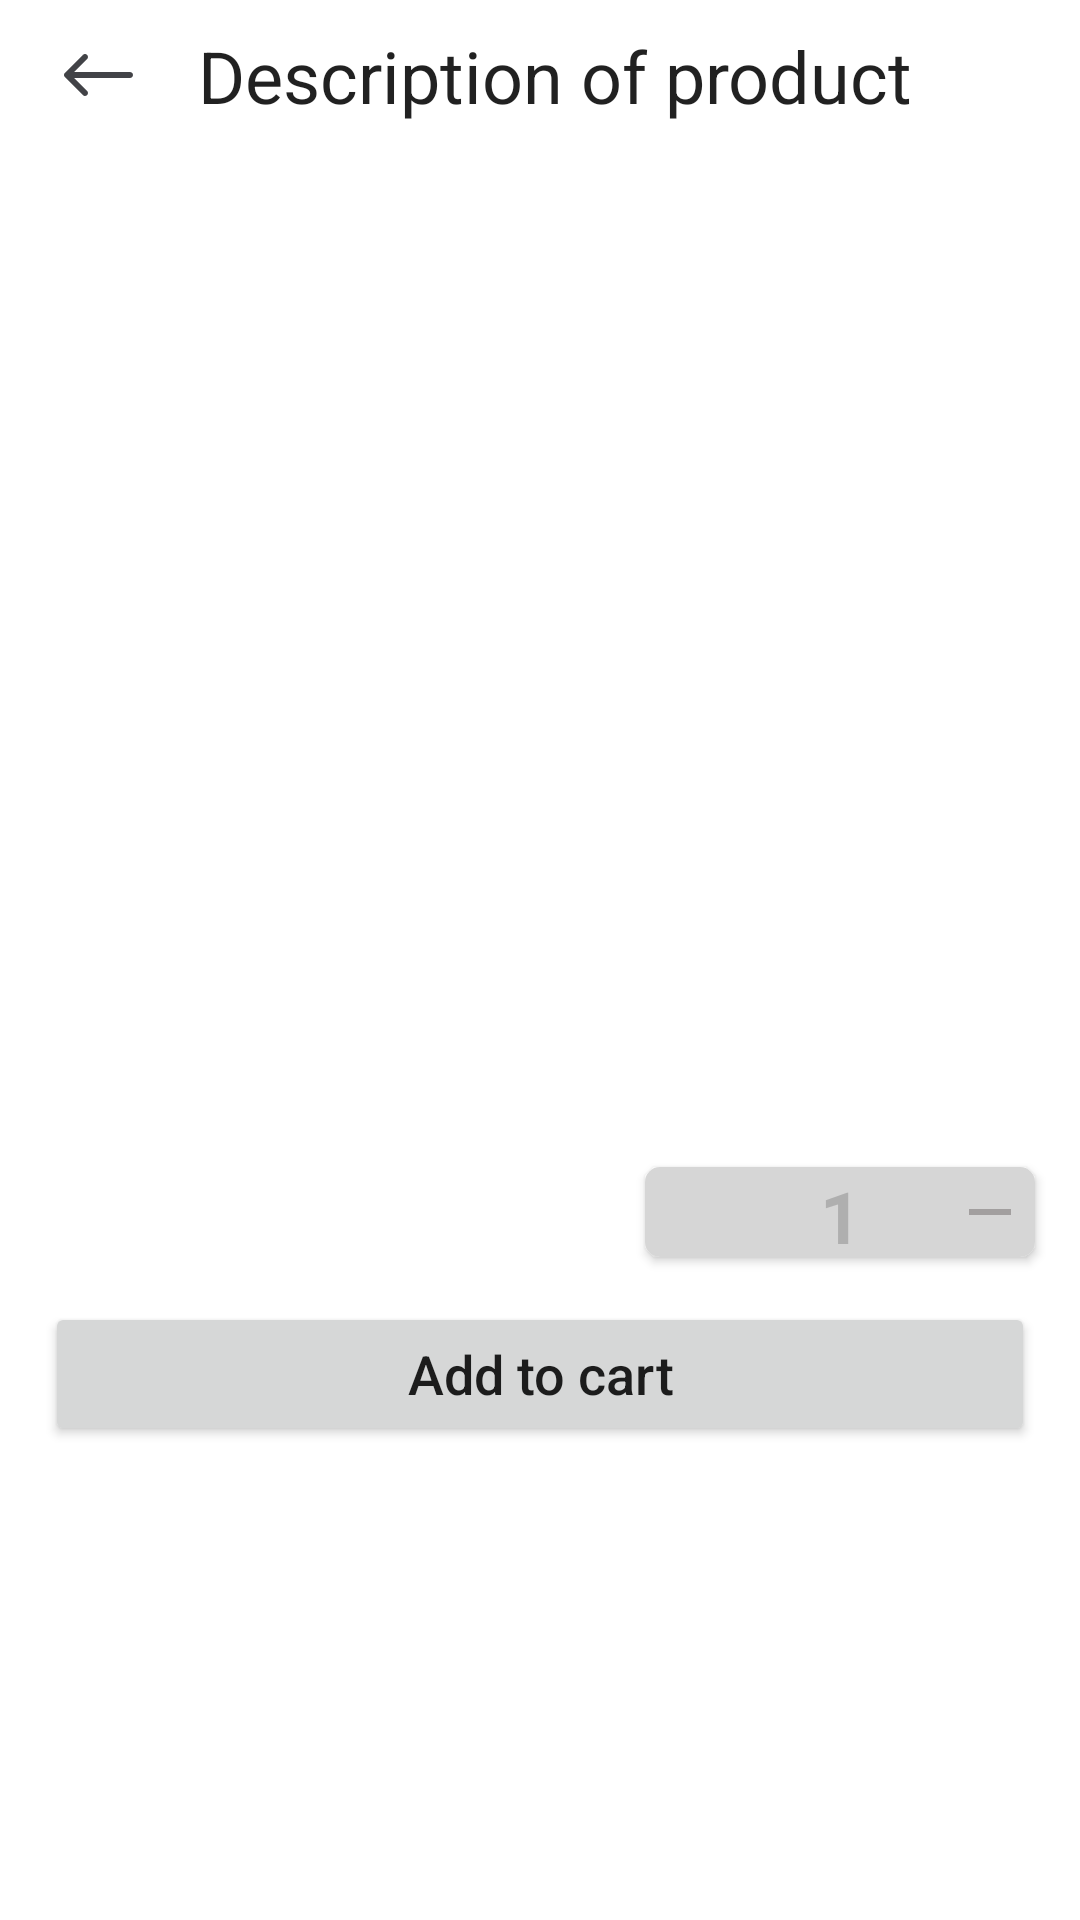

Icon click points for this 1080x1920 phone screenshot, format (x=x, y=y):
back: (x=98, y=75)
